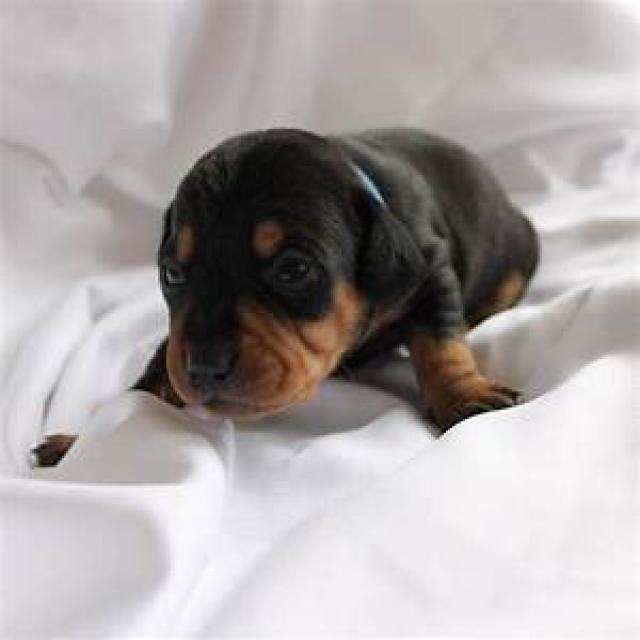dog: (141, 129, 539, 427)
